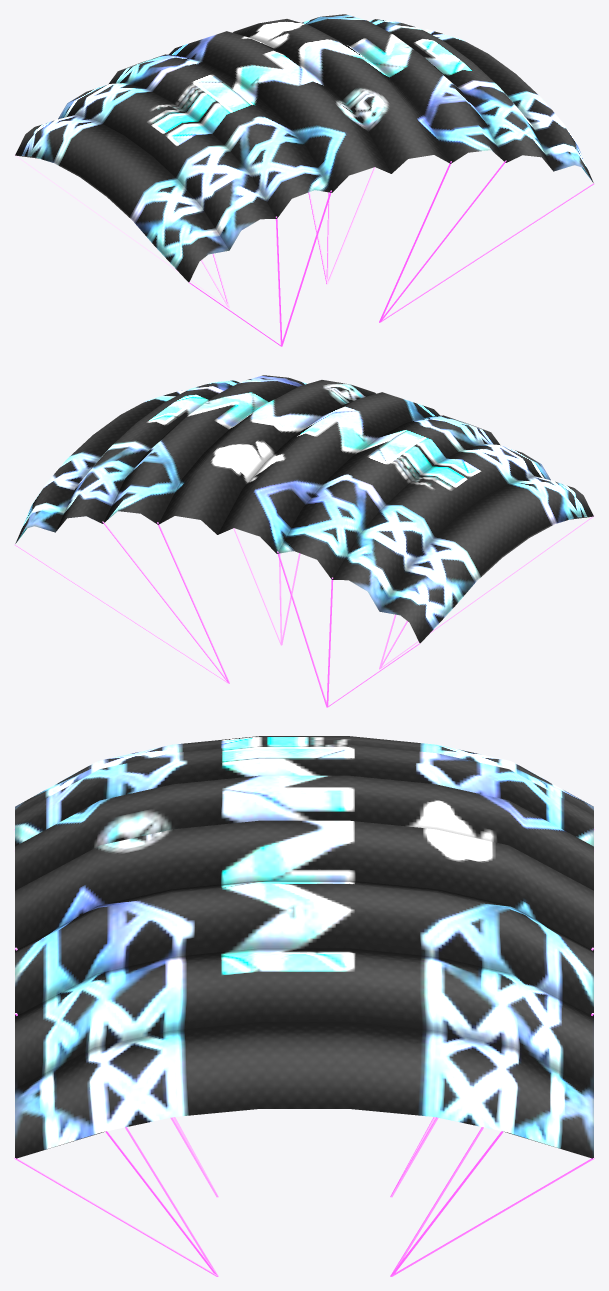
File: parachute.glb
3 views of the same model, one above another, from view 1: azimuth 30°, elevation 25°; view 2: azimuth 150°, elevation 25°; view 3: azimuth 270°, elevation 25° (orthographic). The views are drawn at different scales.
Parts seen in each view (by area): view 1: Plane.003; view 2: Plane.003; view 3: Plane.003.
Boxes of the visible parts, <box> form: Plane.003: <box>14,14,594,346</box>; Plane.003: <box>14,375,594,707</box>; Plane.003: <box>14,736,594,1276</box>.
Size of what is drawn, in the model's own units: 3.81 by 2.22 by 2.73.
2 materials, 1 textured.
